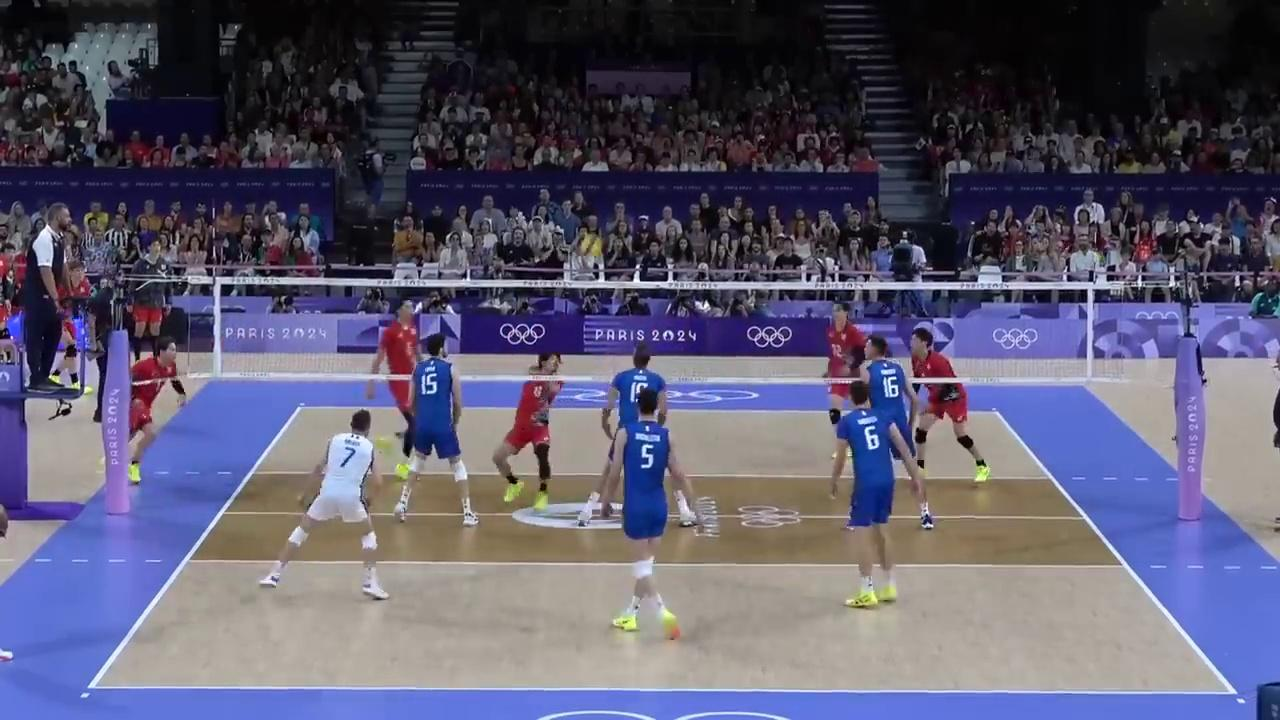ball: (577, 233, 602, 257)
